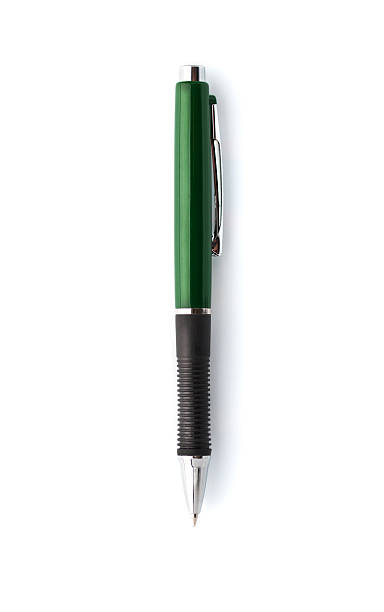pen: (154, 48, 262, 543)
